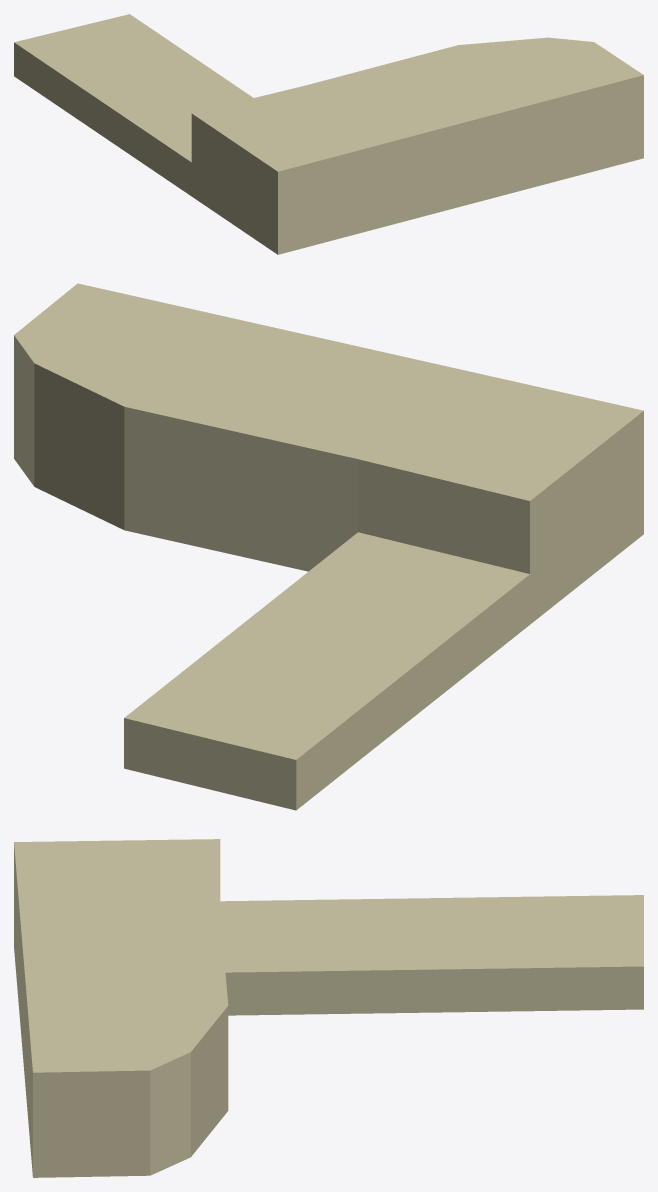
Rendered from SM_WhiteModel_14.FBX.
The picture shows the model from 3 angles, top to bottom: view 1: azimuth 30°, elevation 25°; view 2: azimuth 150°, elevation 25°; view 3: azimuth 270°, elevation 25°; orthographic projection. The views are drawn at different scales.
Visible parts, largest first — view 1: SM_WhiteModel_14; view 2: SM_WhiteModel_14; view 3: SM_WhiteModel_14.
Part boxes in pixels (x1=…): SM_WhiteModel_14: x1=14, y1=14, x2=643, y2=254; SM_WhiteModel_14: x1=14, y1=283, x2=643, y2=810; SM_WhiteModel_14: x1=14, y1=839, x2=643, y2=1177.
Size of the model in its own units: 5377 by 5969 by 1100.
